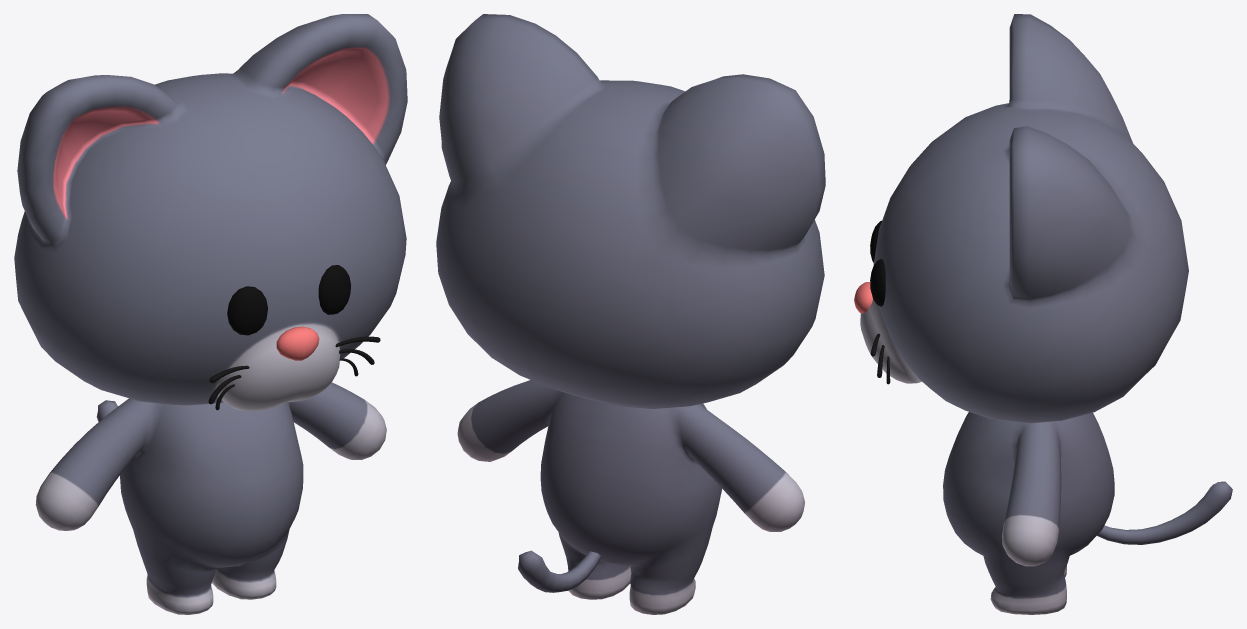
File: cat.glb
3 renders of one model, left to right at view 1: azimuth 30°, elevation 25°; view 2: azimuth 150°, elevation 25°; view 3: azimuth 270°, elevation 25°, orthographic. The views are drawn at different scales.
Visible parts, largest first — view 1: Object_6.001; view 2: Object_6.001; view 3: Object_6.001.
Part boxes in pixels (<box>): Object_6.001: <box>14,14,407,614</box>; Object_6.001: <box>436,14,825,614</box>; Object_6.001: <box>854,14,1232,614</box>.
Size of the model in its own units: 80.09 by 110 by 74.27.
Materials: 1 (1 with a texture image).
